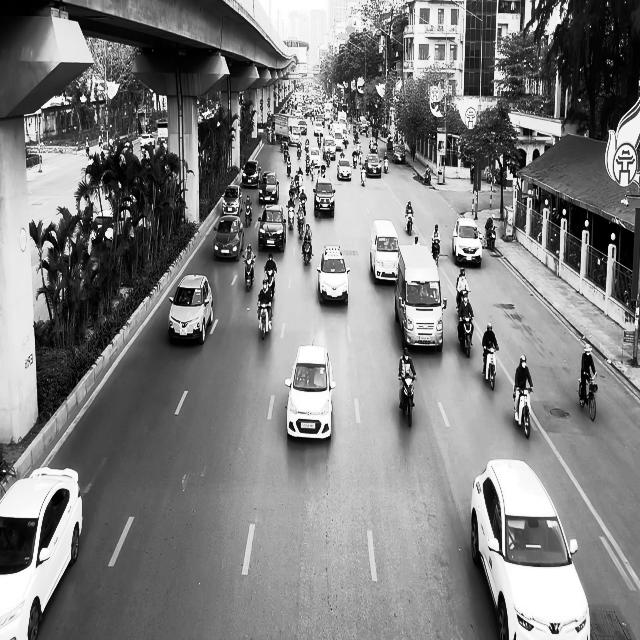car: (470, 458, 591, 639), (0, 466, 84, 640), (285, 343, 336, 440), (168, 274, 214, 344), (317, 244, 351, 305), (370, 220, 400, 284), (453, 217, 482, 267), (213, 214, 244, 260), (258, 204, 287, 252), (313, 178, 336, 218), (222, 184, 243, 216), (259, 172, 279, 204), (242, 160, 261, 187), (364, 153, 382, 178), (337, 158, 352, 181), (392, 144, 406, 164)
motorbike: (513, 386, 534, 438), (578, 373, 598, 421), (399, 374, 416, 426), (483, 344, 499, 390), (458, 315, 474, 357), (257, 298, 273, 339), (243, 255, 256, 291), (484, 224, 496, 250), (302, 240, 313, 265), (432, 240, 441, 266), (405, 212, 414, 235), (245, 204, 253, 227), (424, 170, 432, 186)
truck: (394, 244, 447, 352)
